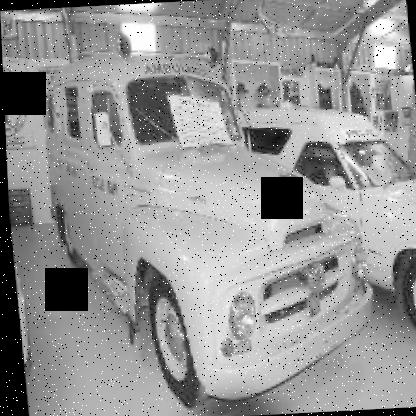emergency: (4, 38, 398, 397)
